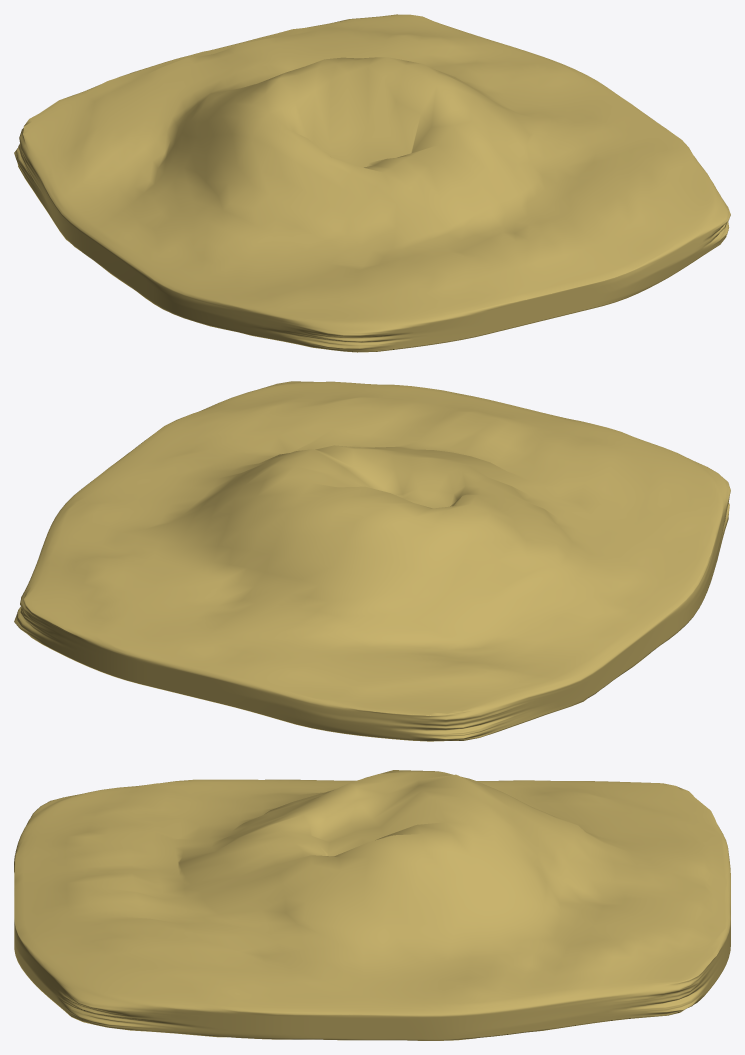
File: antMound.fbx
3 views of the same model, one above another, from view 1: azimuth 30°, elevation 25°; view 2: azimuth 150°, elevation 25°; view 3: azimuth 270°, elevation 25° (orthographic). The views are drawn at different scales.
Parts seen in each view (by area): view 1: Cube; view 2: Cube; view 3: Cube.
Boxes of the visible parts, x1,y1,x2,y2 form: Cube: (14,14,730,352); Cube: (14,381,730,741); Cube: (14,770,730,1040).
Size of the model in its own units: 1368 by 324 by 1551.
